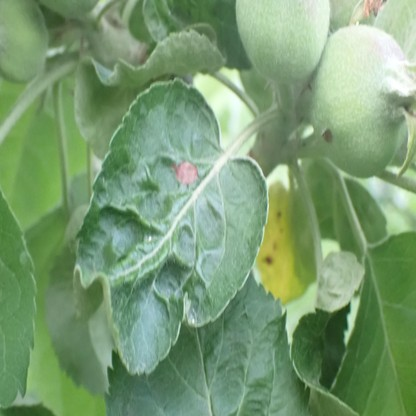frogeye_leaf_spot: (173, 161, 199, 187)
